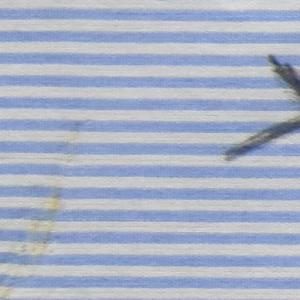Oil Stain: (1, 122, 87, 300)
Stain: (215, 51, 300, 167)
